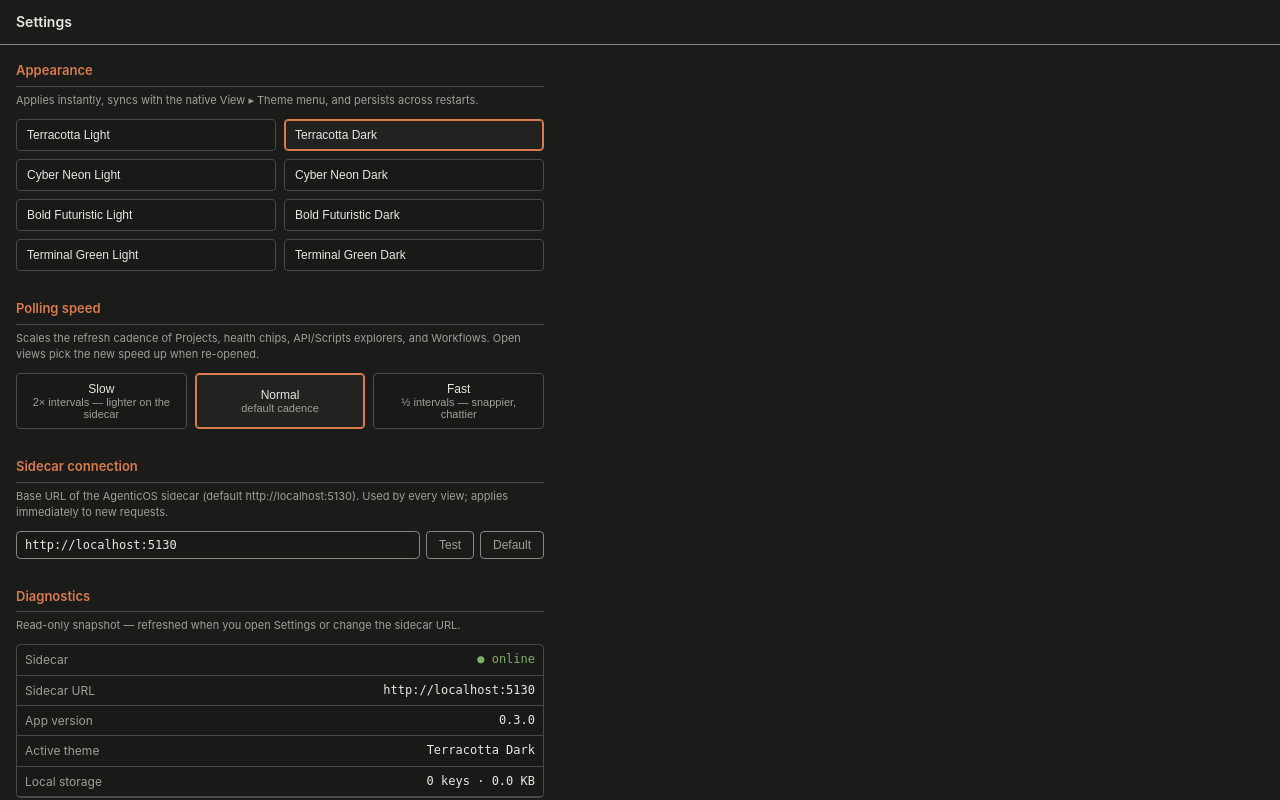
Scenario: SettingsView Integration › should change what sidecarUrl() returns for api.js and explorers
Replace the text in the field with test id "sidecar-url-input" with "http://devbox:6001" at (218, 544), box [16,530,420,558]
Then press Enter
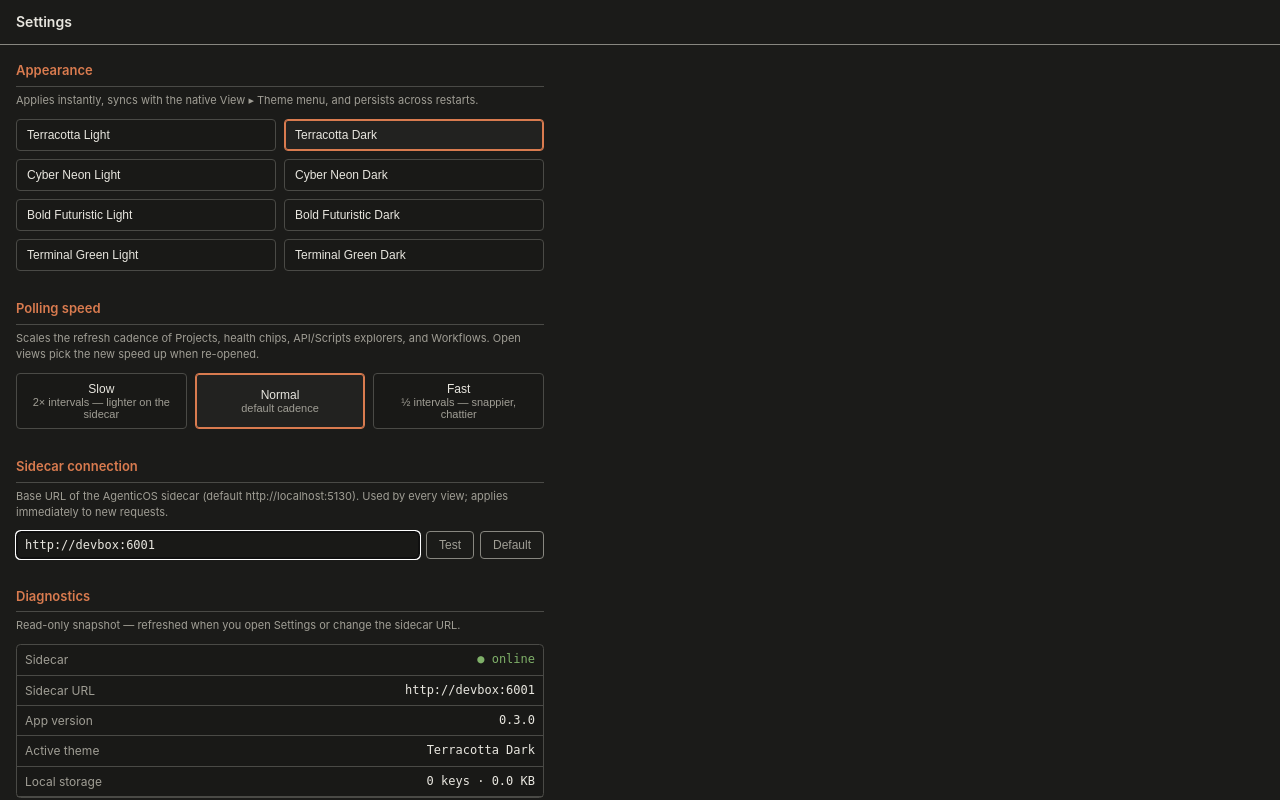
Check: the text "http://devbox:6001" is shown, box [405,682,535,699]
